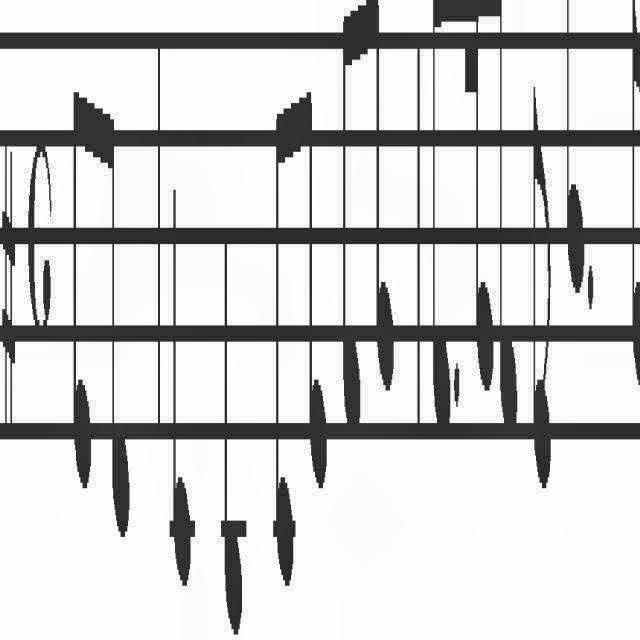Diez: (0, 172, 20, 452)
Eighth-note: (98, 88, 134, 552), (271, 42, 299, 622), (334, 1, 364, 500), (493, 0, 523, 478), (526, 72, 556, 528), (425, 0, 453, 472), (369, 1, 399, 423), (66, 61, 92, 532), (302, 58, 328, 494), (619, 0, 640, 499), (639, 0, 640, 499)
Quarter-note: (213, 155, 250, 640), (170, 96, 197, 632), (562, 1, 584, 316)
Sixteenth-note: (464, 0, 490, 428)
